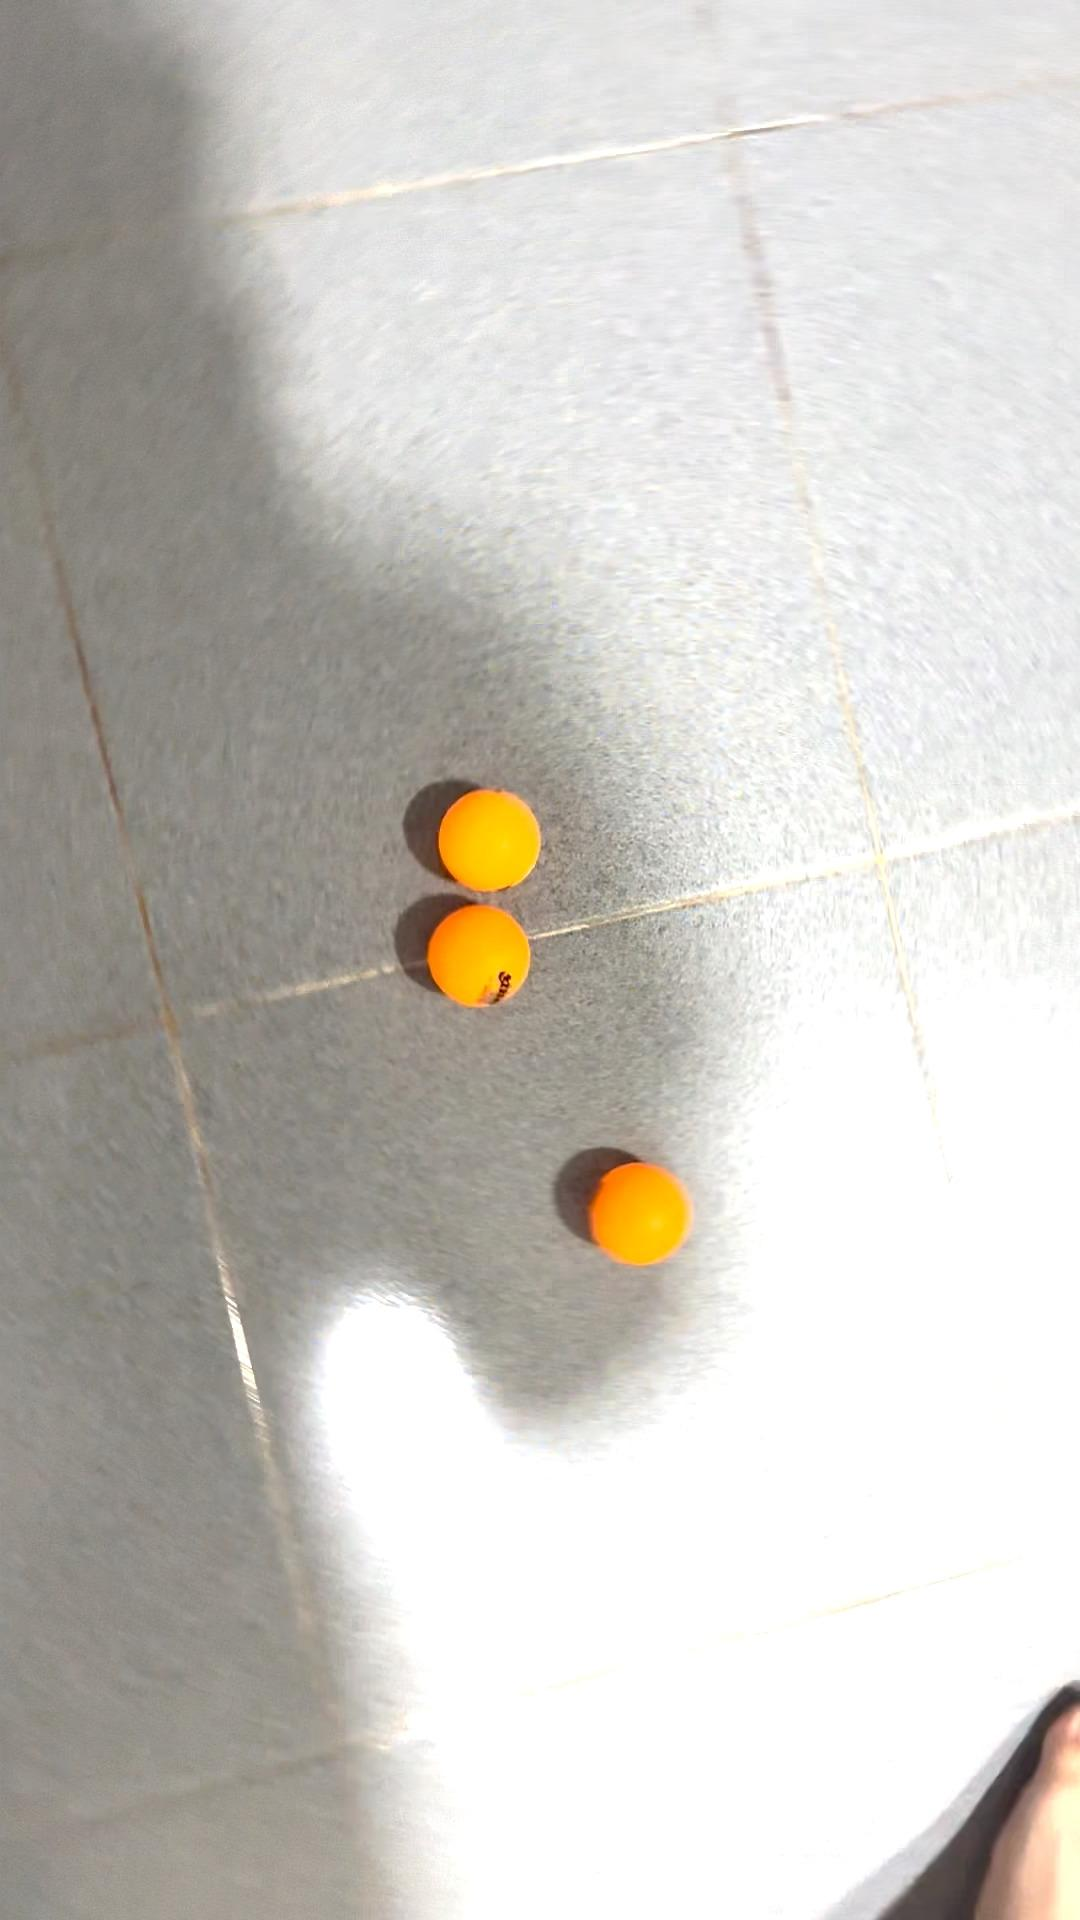oball: (575, 1147, 699, 1279), (425, 774, 551, 893), (421, 901, 542, 1022)
